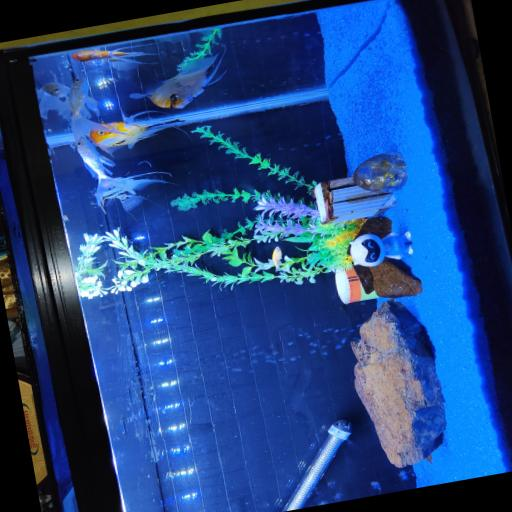Fish: (131, 51, 227, 108), (76, 137, 136, 204), (68, 77, 125, 141), (90, 111, 169, 155), (97, 172, 172, 212), (72, 47, 157, 71), (37, 83, 71, 118), (272, 247, 282, 271)
